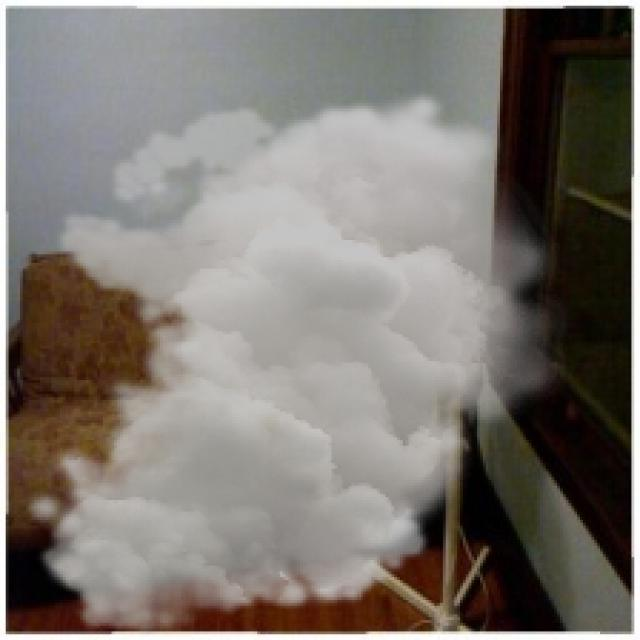Smoke: (19, 88, 572, 638)
